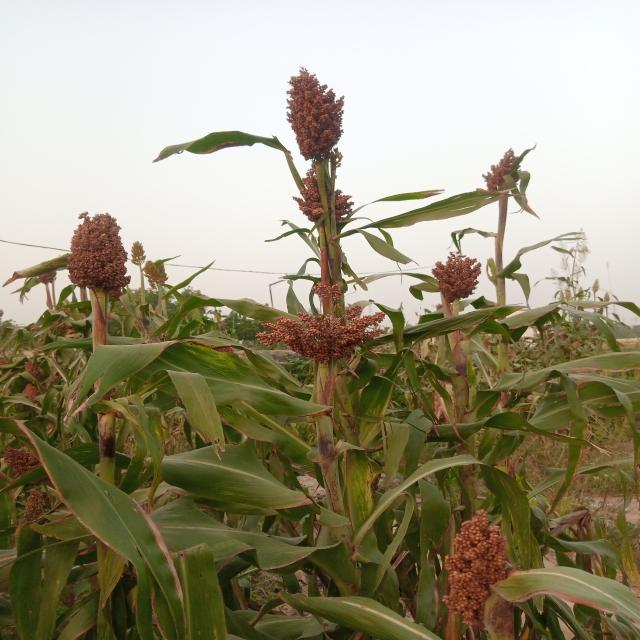RipeSorghum: (428, 507, 546, 625), (61, 197, 152, 305)
